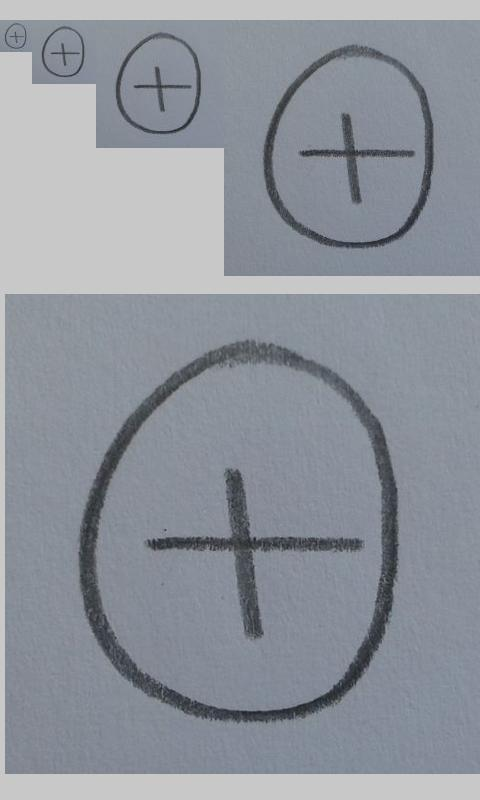button: (76, 341, 401, 724), (263, 45, 435, 249), (115, 32, 202, 135), (41, 26, 85, 77), (4, 22, 27, 49)
